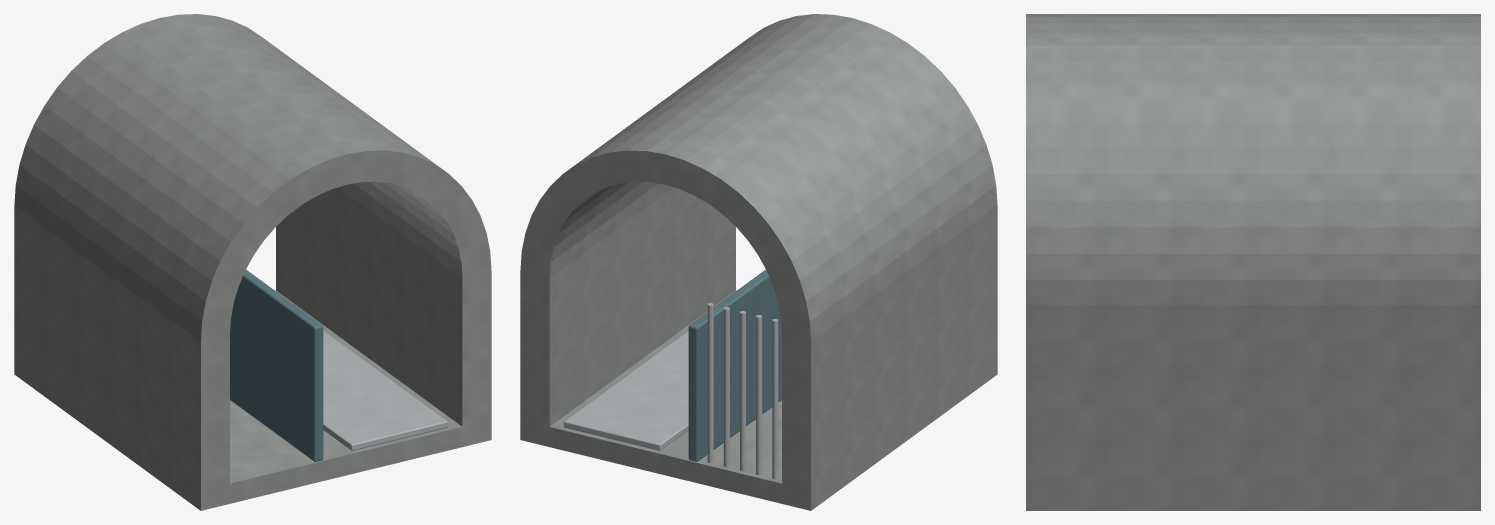
File: gorgehold-survivor-gallery-and-operations-culvert-craw-deebb644__32882.glb
The picture shows the model from 3 angles, left to right: view 1: azimuth 30°, elevation 25°; view 2: azimuth 150°, elevation 25°; view 3: azimuth 270°, elevation 25°; orthographic projection. The views are drawn at different scales.
Visible parts, largest first — view 1: culvert-crawl-bypass; view 2: culvert-crawl-bypass; view 3: culvert-crawl-bypass.
Boxes of the visible parts, box(x1,y1,x2,y2) form: culvert-crawl-bypass: box(14, 14, 491, 510); culvert-crawl-bypass: box(520, 14, 997, 510); culvert-crawl-bypass: box(1026, 14, 1480, 510).
Size of the model in its own units: 2.7 by 2.85 by 3.
3 materials, 3 textured.
